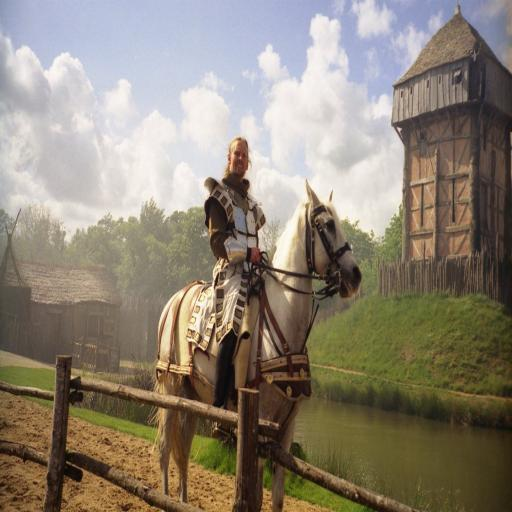horse: (142, 178, 360, 512)
